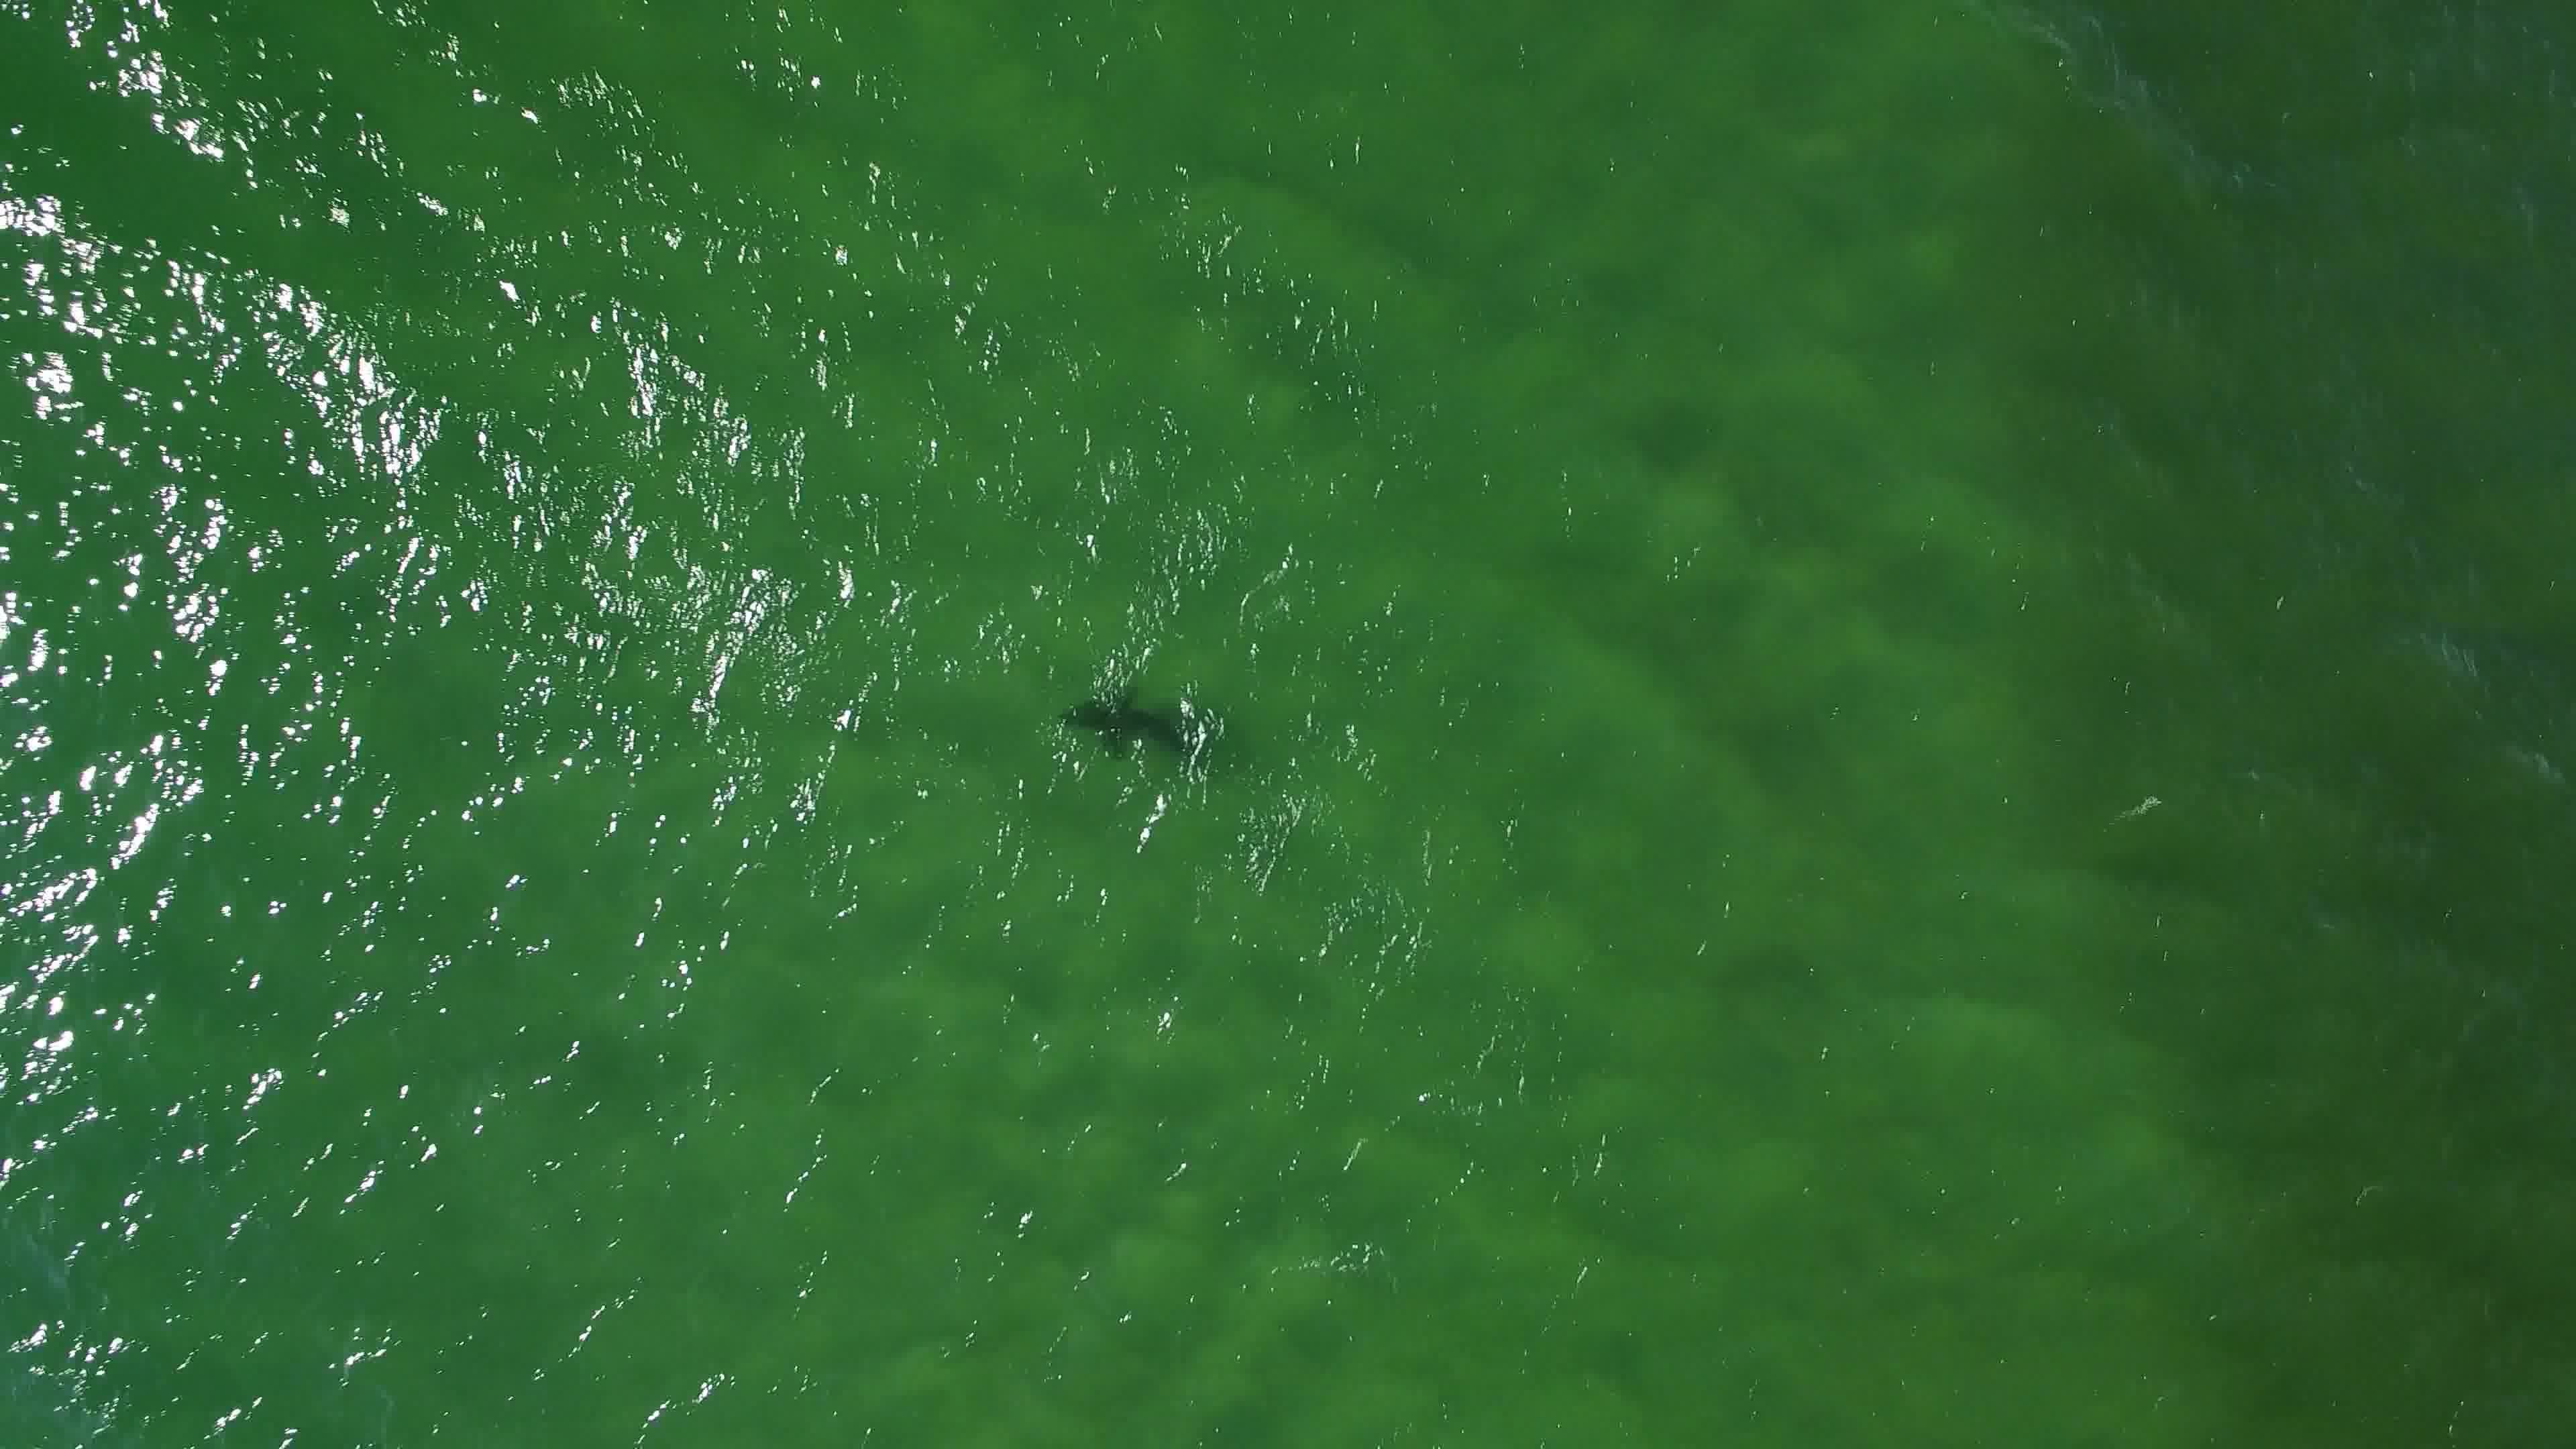shark: (1049, 683, 1200, 763)
